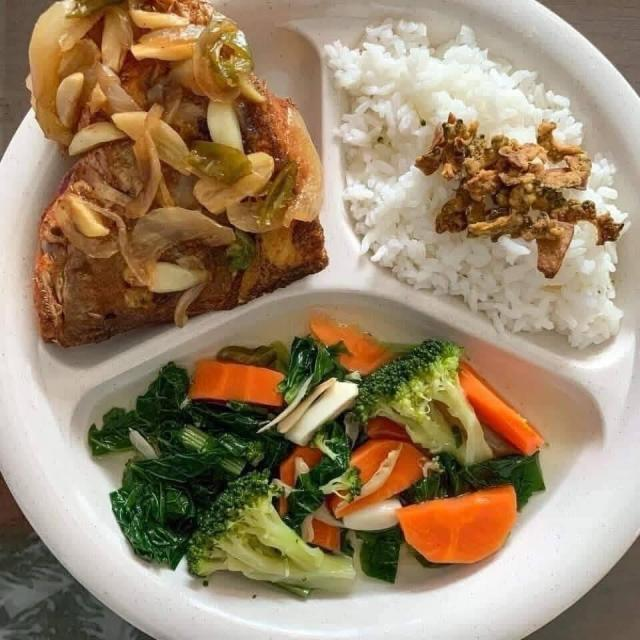Fish: (26, 0, 329, 347)
Plate: (0, 85, 639, 639)
Rice: (334, 18, 632, 351)
Vegetables: (90, 308, 550, 605)
